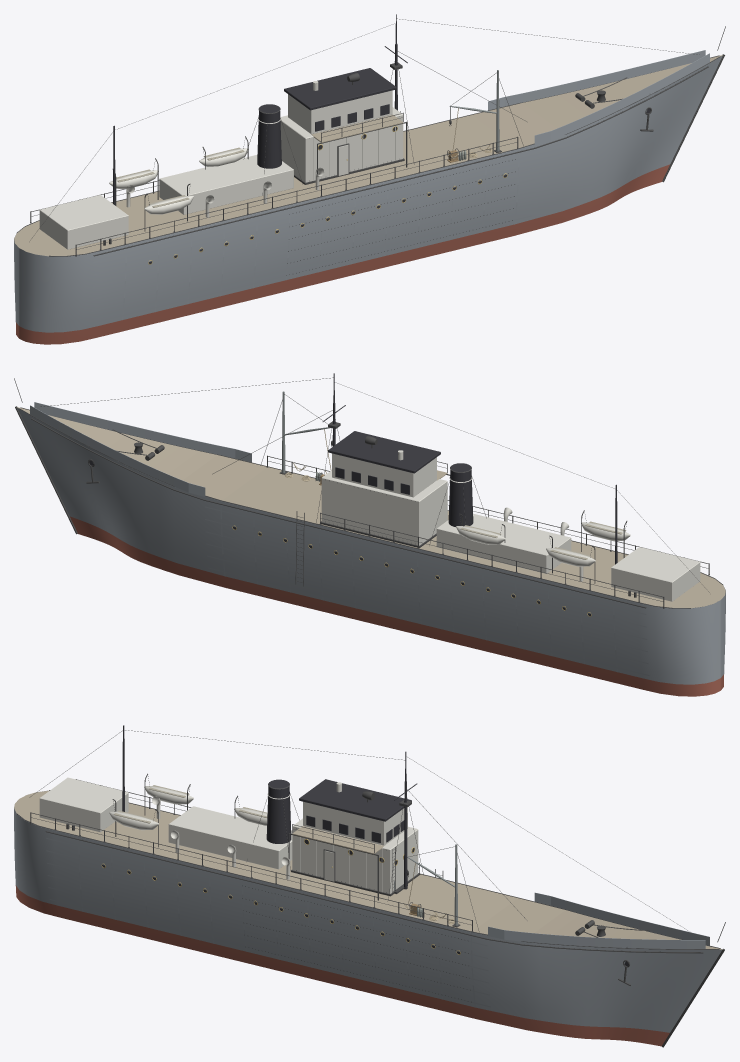
File: storm.glb
3 renders of one model, top to bottom at view 1: azimuth 30°, elevation 25°; view 2: azimuth 150°, elevation 25°; view 3: azimuth 330°, elevation 25°, orthographic.
Parts seen in each view (by area): view 1: storm.ship_paint, storm.white_paint, storm.deck_wood, storm.boot_red, storm.iron, storm.black; view 2: storm.ship_paint, storm.white_paint, storm.deck_wood, storm.boot_red, storm.iron, storm.black; view 3: storm.ship_paint, storm.white_paint, storm.deck_wood, storm.iron, storm.boot_red, storm.black.
Part boxes in pixels (bbox=[...]): storm.ship_paint: bbox=[14, 50, 722, 332]; storm.white_paint: bbox=[39, 81, 403, 249]; storm.deck_wood: bbox=[14, 55, 722, 256]; storm.boot_red: bbox=[16, 164, 669, 344]; storm.iron: bbox=[17, 18, 725, 275]; storm.black: bbox=[113, 14, 650, 264]; storm.ship_paint: bbox=[17, 402, 725, 684]; storm.white_paint: bbox=[321, 450, 700, 601]; storm.deck_wood: bbox=[17, 407, 725, 608]; storm.boot_red: bbox=[70, 516, 723, 696]; storm.iron: bbox=[14, 377, 722, 608]; storm.black: bbox=[89, 373, 617, 616]; storm.ship_paint: bbox=[14, 790, 722, 1032]; storm.white_paint: bbox=[39, 777, 418, 893]; storm.deck_wood: bbox=[14, 790, 722, 949]; storm.iron: bbox=[17, 730, 725, 1047]; storm.boot_red: bbox=[15, 885, 669, 1046]; storm.black: bbox=[102, 725, 628, 965].
Size of the model in its own units: 86.43 by 26.66 by 10.37.
